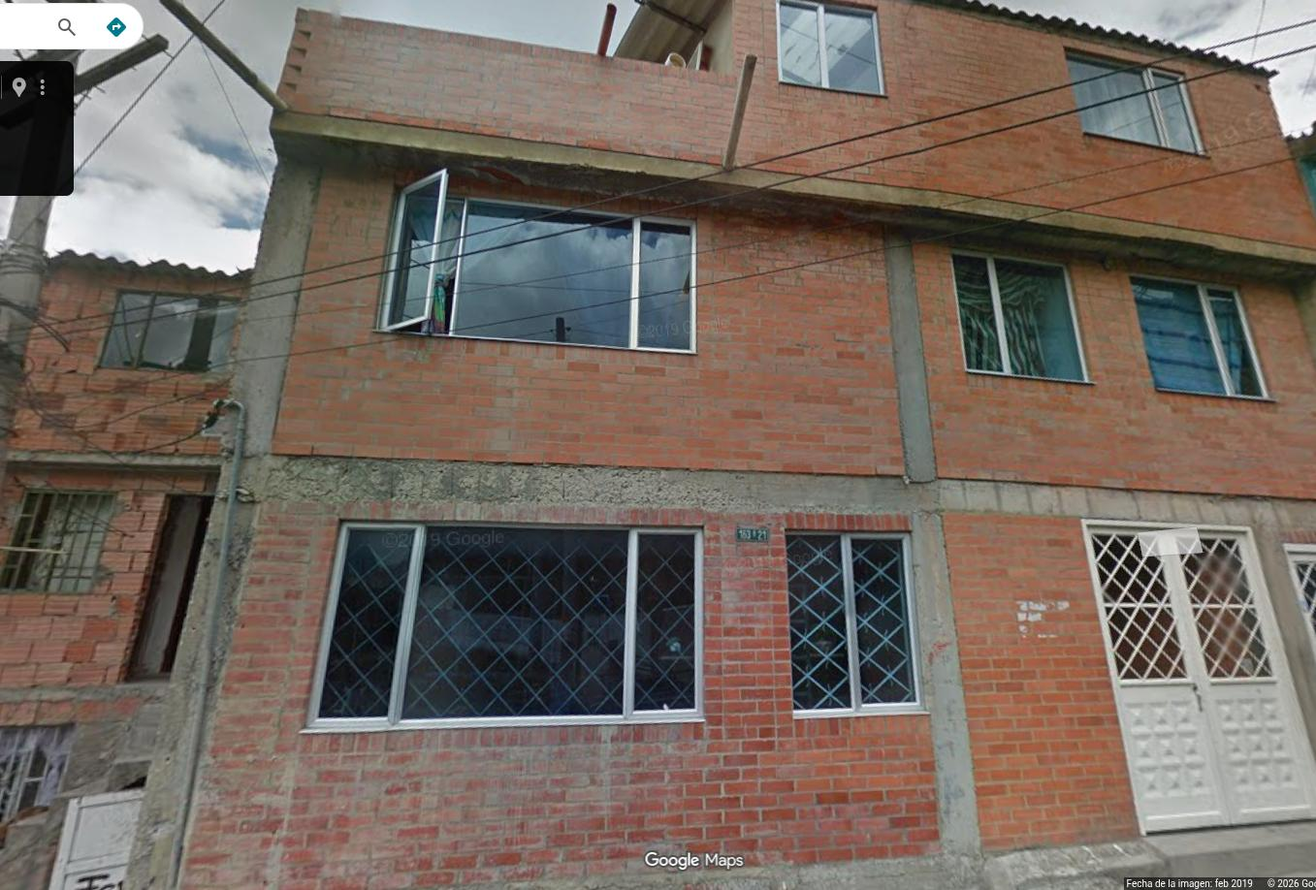casa: (137, 0, 1315, 889)
poste: (0, 196, 53, 426)
